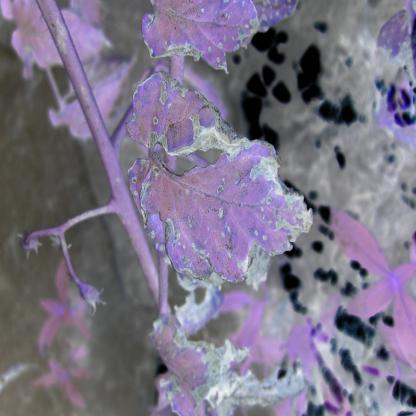Tomato leaf late blight: (111, 71, 309, 299)
